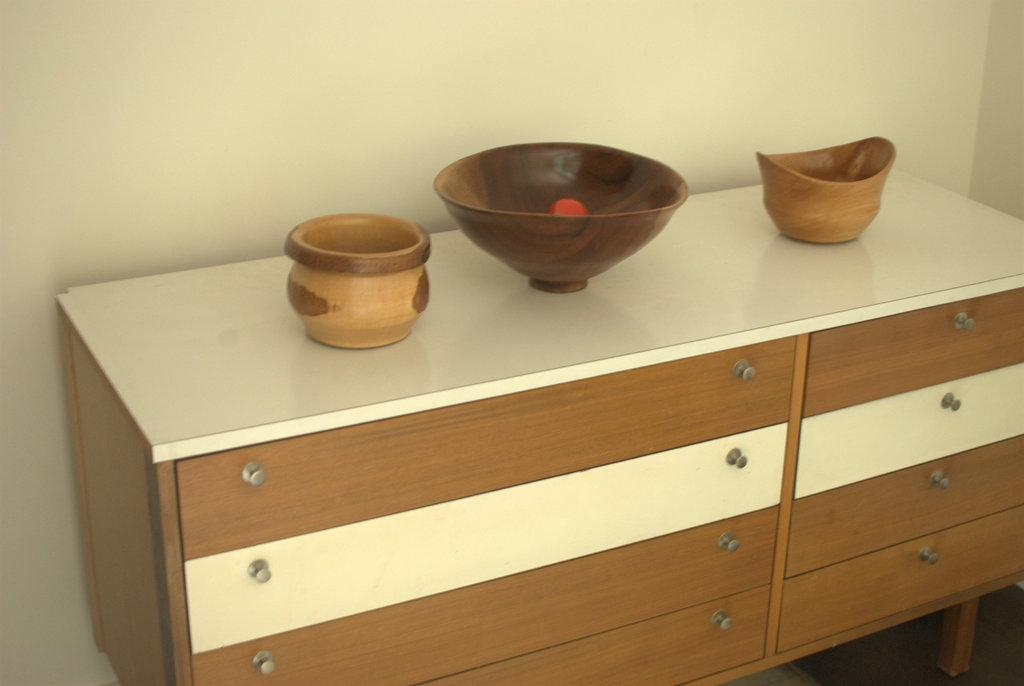cabinet_door: (203, 376, 733, 470), (184, 477, 742, 544), (210, 541, 730, 612), (206, 612, 726, 682), (827, 380, 1024, 452), (809, 519, 1023, 581), (830, 312, 1024, 376), (814, 456, 1024, 512)
handle: (242, 542, 280, 587), (716, 516, 750, 564), (932, 385, 971, 423), (246, 649, 282, 684), (728, 350, 758, 392), (912, 536, 946, 572), (236, 460, 274, 492), (722, 441, 750, 479), (926, 462, 950, 499), (710, 604, 734, 638), (958, 306, 980, 342)
